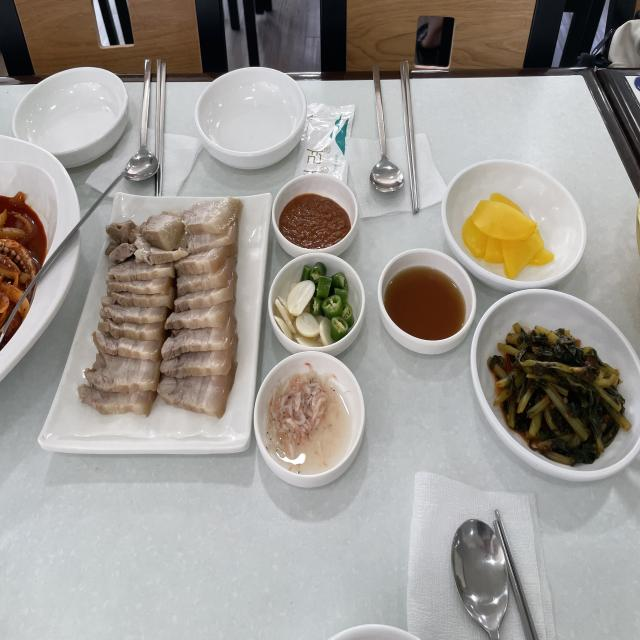Bowl: (470, 288, 640, 482), (0, 134, 81, 382), (440, 158, 587, 293), (253, 351, 365, 488), (12, 66, 129, 168), (194, 66, 307, 170), (377, 248, 476, 355), (268, 252, 366, 357), (271, 172, 359, 258), (324, 628, 431, 640)
Plate: (38, 192, 272, 455)
